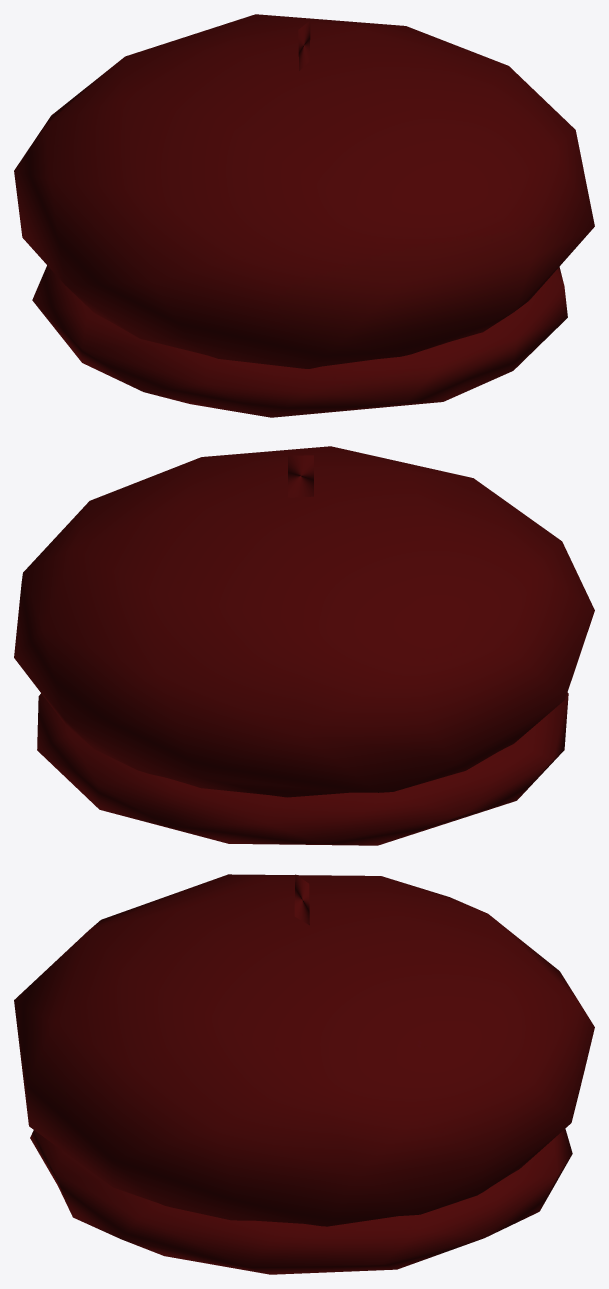
File: dormin.dae
The picture shows the model from 3 angles, top to bottom: view 1: azimuth 30°, elevation 25°; view 2: azimuth 150°, elevation 25°; view 3: azimuth 270°, elevation 25°; orthographic projection.
Parts seen in each view (by area): view 1: Torus; view 2: Torus; view 3: Torus.
Boxes of the visible parts, box(x1,y1,x2,y2) form: Torus: box(14, 14, 594, 417); Torus: box(14, 446, 594, 845); Torus: box(14, 874, 594, 1274).
Size of the model in its own units: 0.1559 by 0.154 by 0.0874.
Materials: 1 (1 with a texture image).
